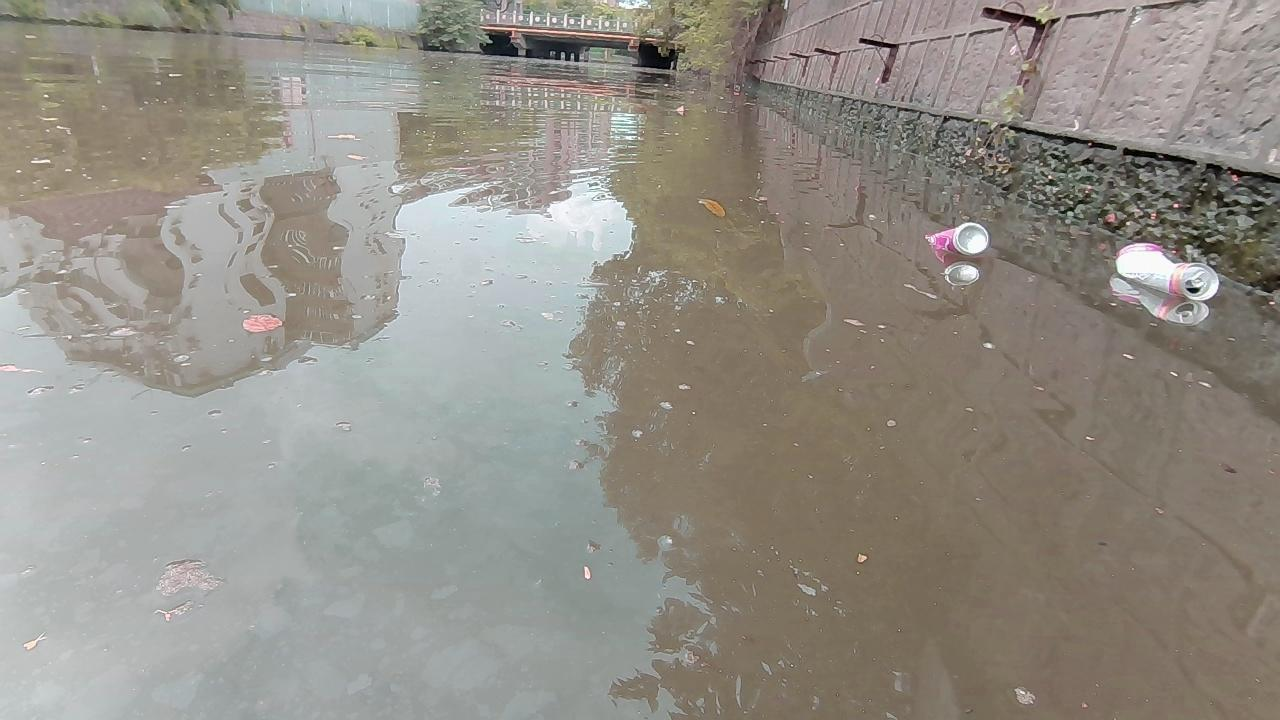Metal: (1114, 242, 1221, 302), (925, 221, 991, 256)
